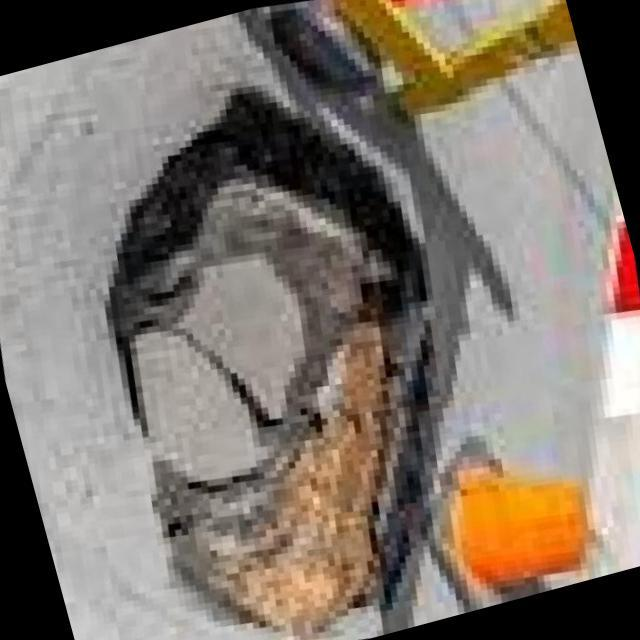pothole: (48, 69, 502, 640)
